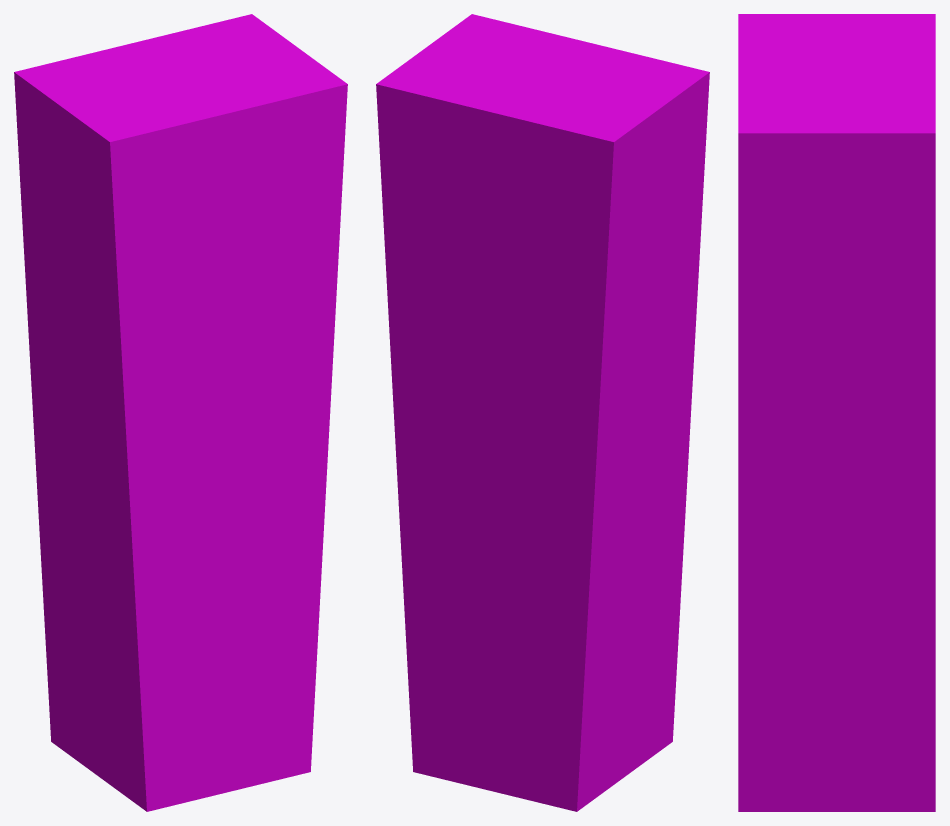
The model's file is SM_OverheadLightSinglePart05Collider.fbx.
3 renders of one model, left to right at view 1: azimuth 30°, elevation 25°; view 2: azimuth 150°, elevation 25°; view 3: azimuth 270°, elevation 25°, orthographic. The views are drawn at different scales.
Parts seen in each view (by area): view 1: OverheadLightSinglePart05Collision; view 2: OverheadLightSinglePart05Collision; view 3: OverheadLightSinglePart05Collision.
Part boxes in pixels (x1=…): OverheadLightSinglePart05Collision: x1=14, y1=14, x2=347, y2=811; OverheadLightSinglePart05Collision: x1=376, y1=14, x2=709, y2=811; OverheadLightSinglePart05Collision: x1=738, y1=14, x2=935, y2=811.
Bounding box in the file's own units: 4.35 × 11.87 × 3.04.
